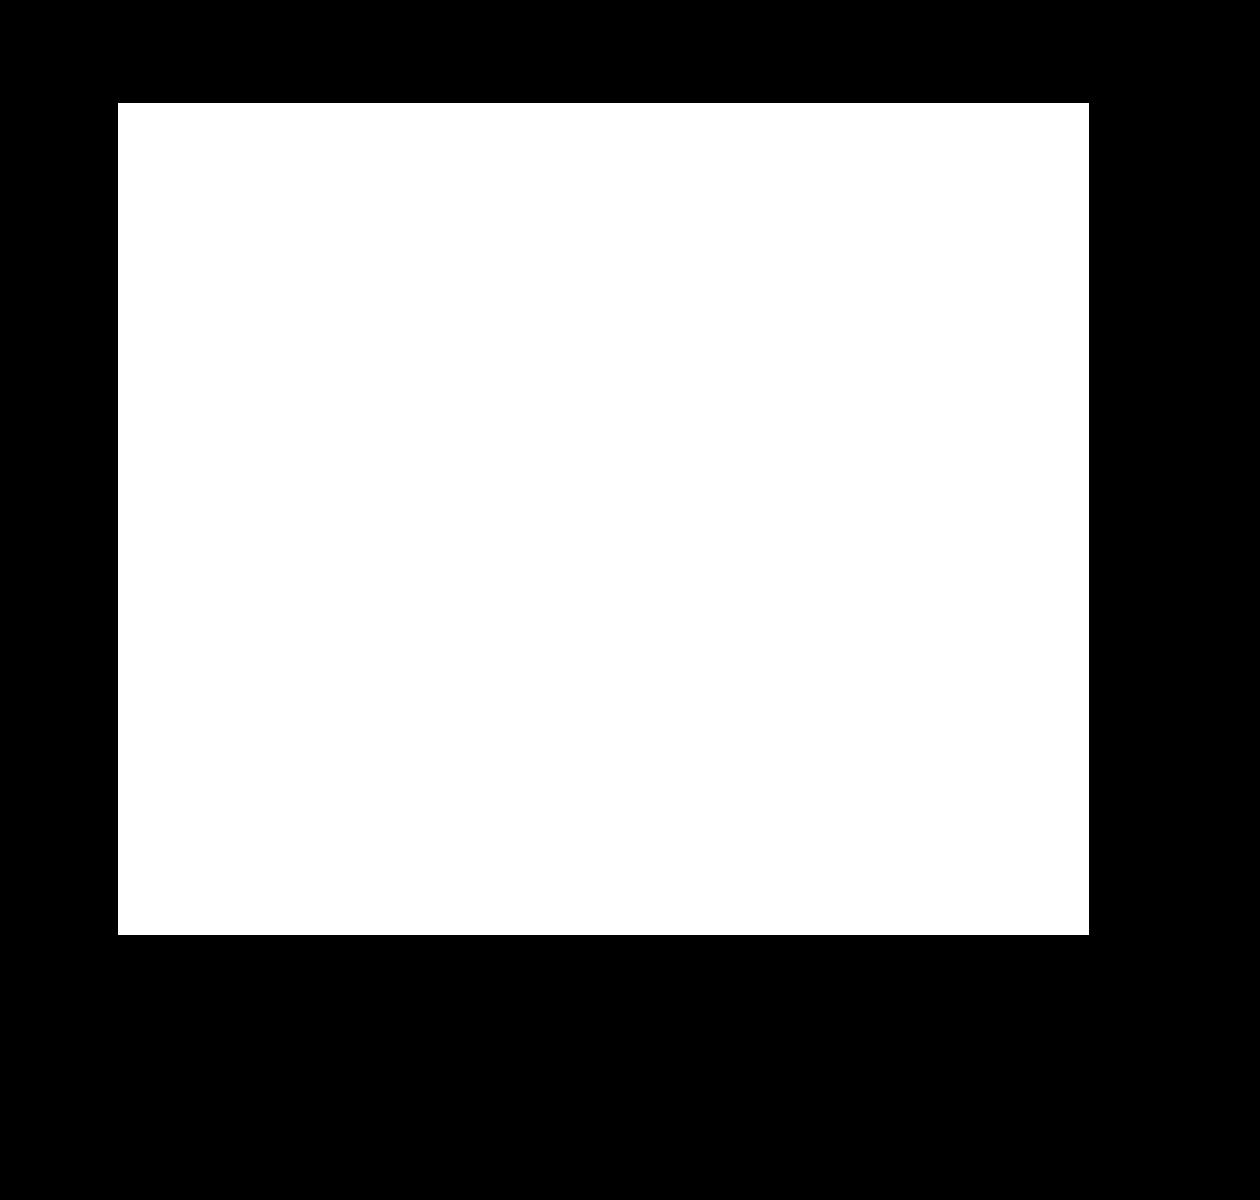table: (118, 103, 1089, 935)
